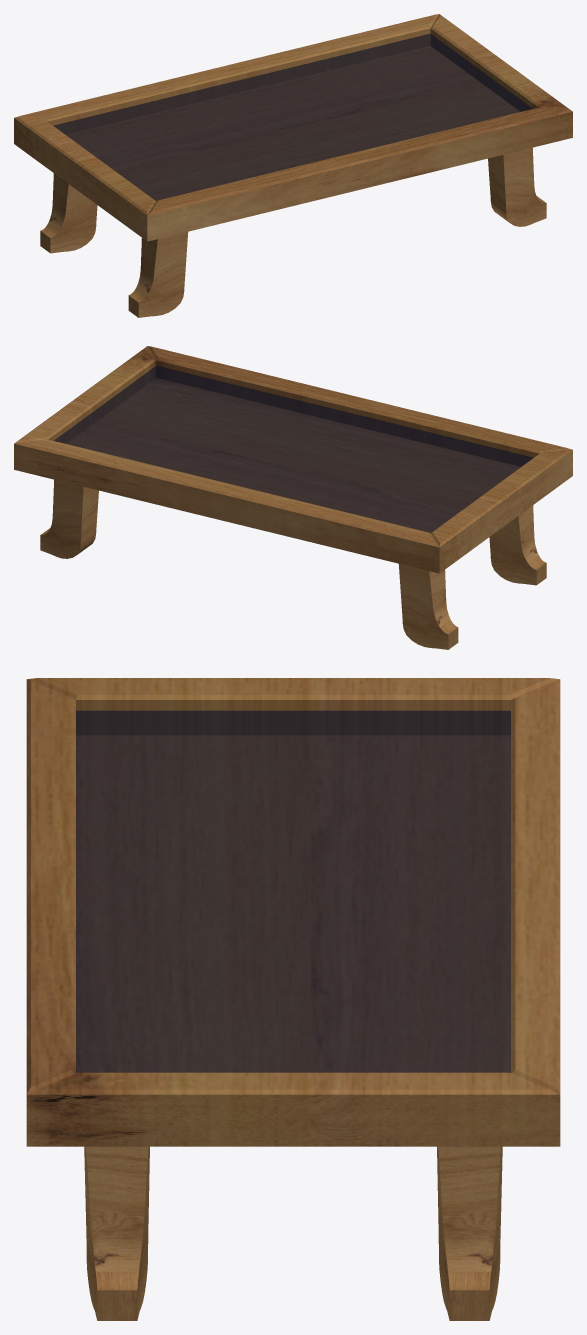
File: mesa exibicion.fbx
3 views of the same model, one above another, from view 1: azimuth 30°, elevation 25°; view 2: azimuth 150°, elevation 25°; view 3: azimuth 270°, elevation 25° (orthographic). The views are drawn at different scales.
Parts seen in each view (by area): view 1: Cube, Cube.001; view 2: Cube, Cube.001; view 3: Cube, Cube.001.
Part boxes in pixels (bbox=[...]): Cube: bbox=[14, 14, 572, 241]; Cube.001: bbox=[40, 147, 546, 317]; Cube: bbox=[14, 346, 572, 573]; Cube.001: bbox=[40, 479, 546, 649]; Cube: bbox=[26, 678, 560, 1146]; Cube.001: bbox=[84, 1146, 502, 1320].
Bounding box in the file's own units: 369 × 99.98 × 201.
2 materials, 1 textured.
